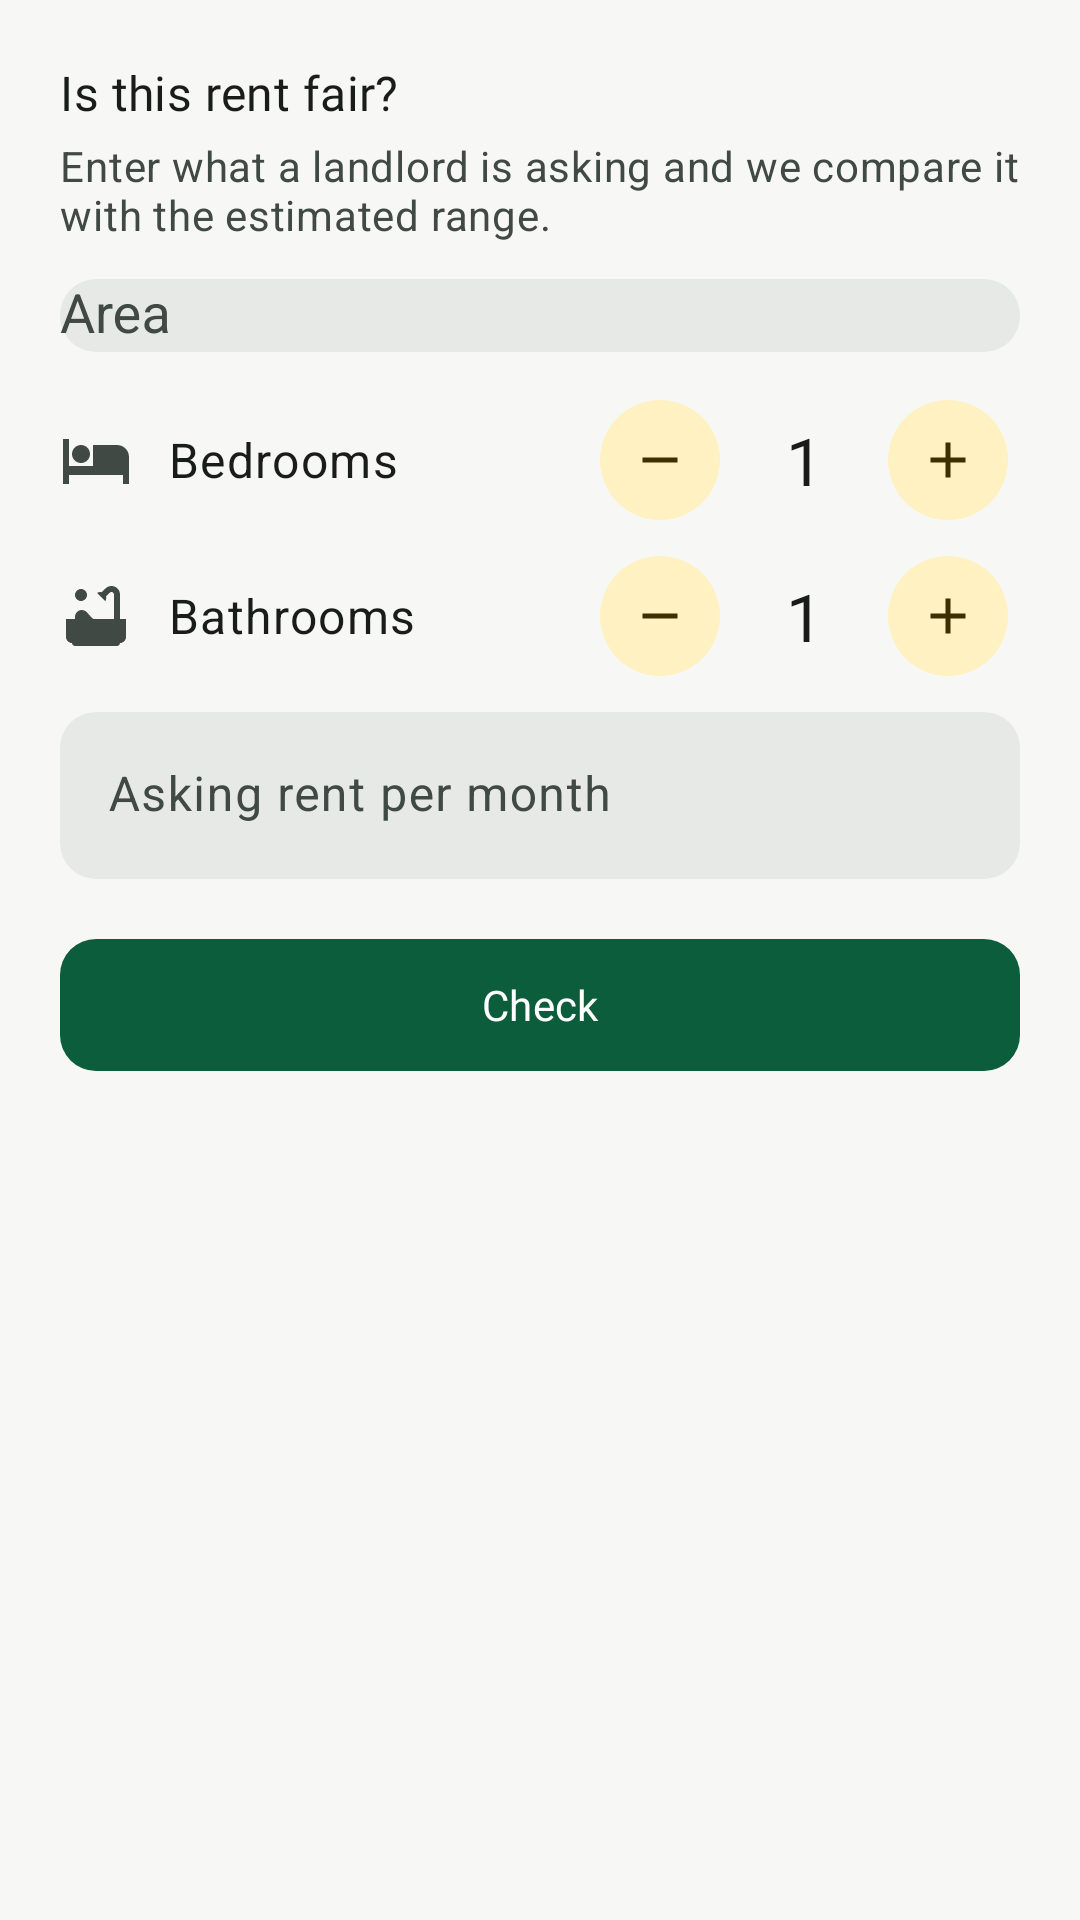

Icons on this 1080×1920 Android screen, each with the point to tap as [x,y]:
bathtub: [96,616]
bed: [96,461]
More bathrooms: [948,616]
More bedrooms: [948,460]
